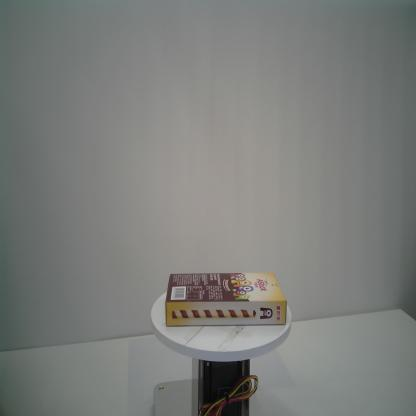Dessert: (164, 270, 288, 330)
